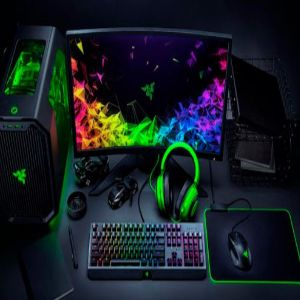headset: (156, 140, 201, 220)
keyboard: (89, 220, 208, 283)
mouse: (225, 227, 254, 272)
